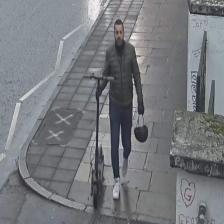person: (105, 19, 143, 199)
